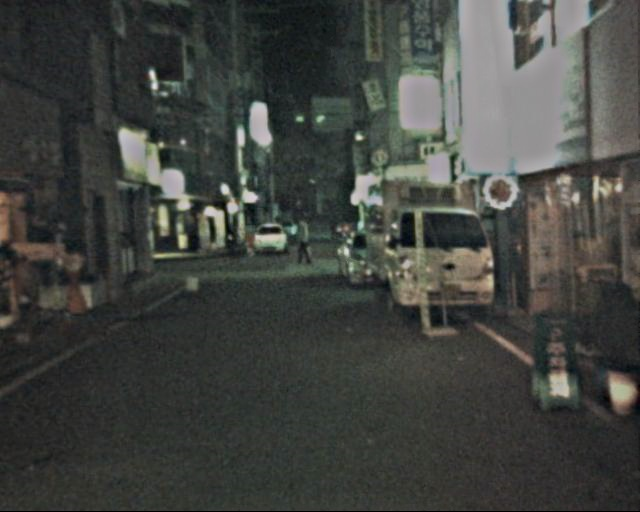person: (289, 219, 313, 272)
